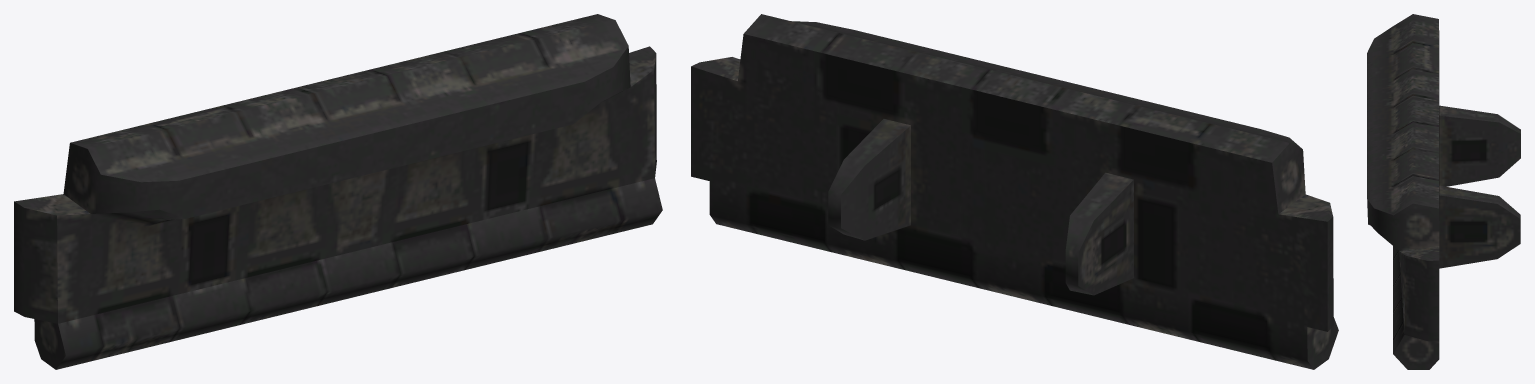
3 views of the same model, side by side, from view 1: azimuth 30°, elevation 25°; view 2: azimuth 150°, elevation 25°; view 3: azimuth 270°, elevation 25° (orthographic). The views are drawn at different scales.
Parts seen in each view (by area): view 1: set_0_group_0; view 2: set_0_group_0; view 3: set_0_group_0.
Part boxes in pixels (left/top/right/bottom): set_0_group_0: left=14, top=14, right=662, bottom=369; set_0_group_0: left=691, top=14, right=1338, bottom=369; set_0_group_0: left=1367, top=14, right=1520, bottom=369.
Bounding box in the file's own units: 0.663 × 0.2091 × 0.1887.
Materials: 1 (1 with a texture image).
